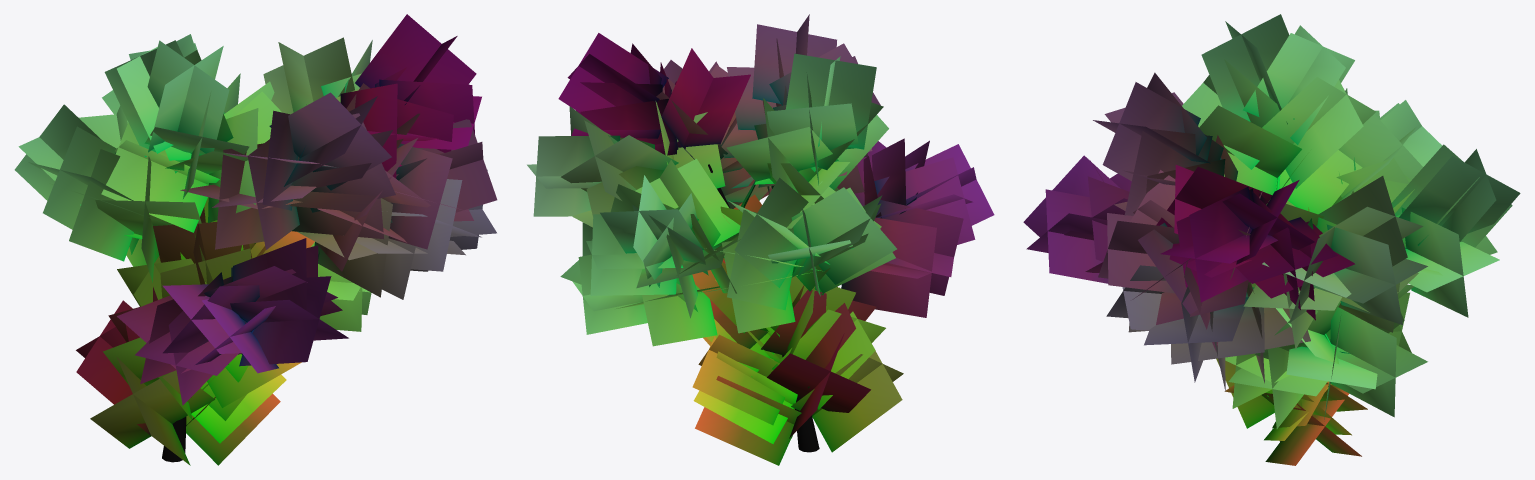
The model's file is URP_P3_Tree_11_LOD_2.fbx.
3 renders of one model, left to right at view 1: azimuth 30°, elevation 25°; view 2: azimuth 150°, elevation 25°; view 3: azimuth 270°, elevation 25°, orthographic. The views are drawn at different scales.
Parts seen in each view (by area): view 1: Tree_11_LOD_2; view 2: Tree_11_LOD_2; view 3: Tree_11_LOD_2.
Part boxes in pixels (left/top/right/bottom): Tree_11_LOD_2: left=14, top=14, right=497, bottom=465; Tree_11_LOD_2: left=527, top=14, right=994, bottom=465; Tree_11_LOD_2: left=1023, top=14, right=1520, bottom=465.
Size of the model in its own units: 509 by 526 by 559.
